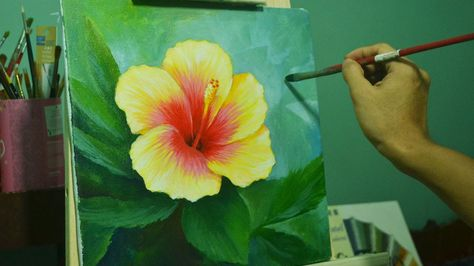Hibiscus: (114, 41, 286, 203)
